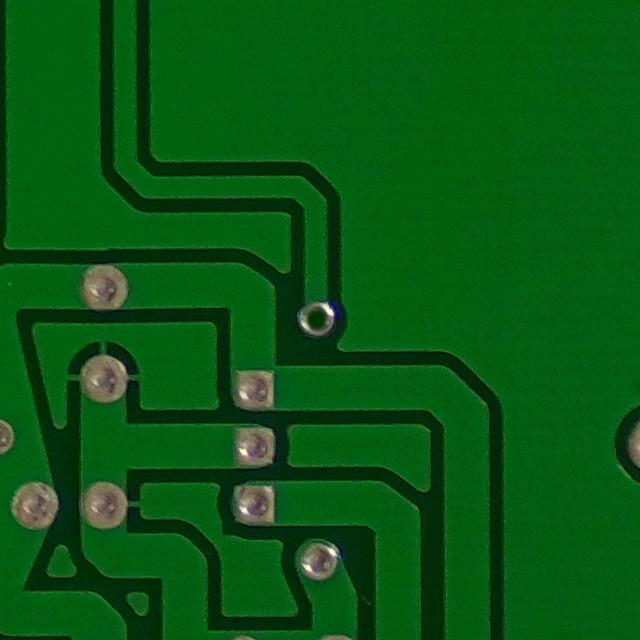missing_hole: (290, 289, 351, 352)
